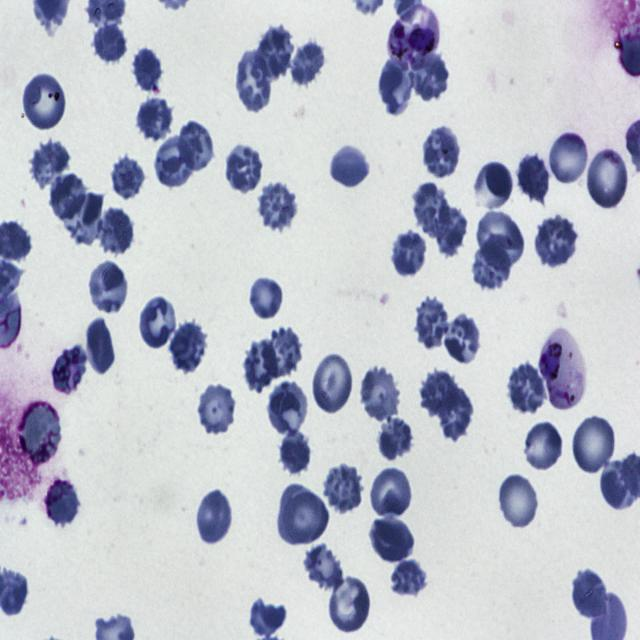red blood cell: (278, 484, 330, 547), (571, 412, 618, 476), (21, 71, 69, 133), (477, 208, 524, 270), (310, 352, 355, 416), (19, 400, 63, 465), (586, 146, 630, 210), (328, 574, 372, 637), (266, 380, 310, 440), (358, 364, 402, 424), (548, 127, 591, 188), (234, 49, 274, 114), (86, 259, 130, 317), (61, 190, 105, 248), (498, 472, 540, 531), (377, 52, 414, 118), (436, 379, 474, 443), (366, 516, 414, 566), (369, 465, 413, 519), (473, 235, 515, 291), (534, 216, 580, 267), (254, 180, 298, 233), (407, 48, 450, 102), (196, 381, 238, 436), (155, 134, 197, 188), (322, 464, 366, 515), (422, 124, 462, 180), (138, 295, 178, 351), (523, 420, 565, 473), (253, 26, 294, 80), (195, 488, 233, 546), (262, 327, 304, 379), (28, 138, 70, 190), (48, 342, 88, 396), (508, 361, 549, 413), (408, 182, 449, 234), (442, 312, 482, 365), (175, 120, 215, 173), (244, 338, 283, 392), (170, 319, 208, 374), (471, 162, 514, 210), (225, 141, 263, 195), (42, 474, 80, 528), (96, 203, 134, 257), (84, 317, 118, 377), (411, 294, 448, 349), (598, 459, 637, 511), (516, 150, 553, 204), (376, 415, 416, 464), (431, 203, 469, 254), (288, 38, 326, 88), (571, 568, 608, 619), (48, 173, 84, 225), (136, 96, 176, 142), (276, 426, 312, 477), (304, 543, 344, 588), (418, 371, 458, 416), (90, 20, 129, 66), (391, 228, 428, 276), (110, 153, 146, 201), (129, 44, 163, 94), (329, 146, 369, 187), (250, 598, 288, 640), (248, 277, 283, 320), (391, 560, 428, 598)
trophozoite: (540, 326, 588, 413), (387, 2, 440, 67)
